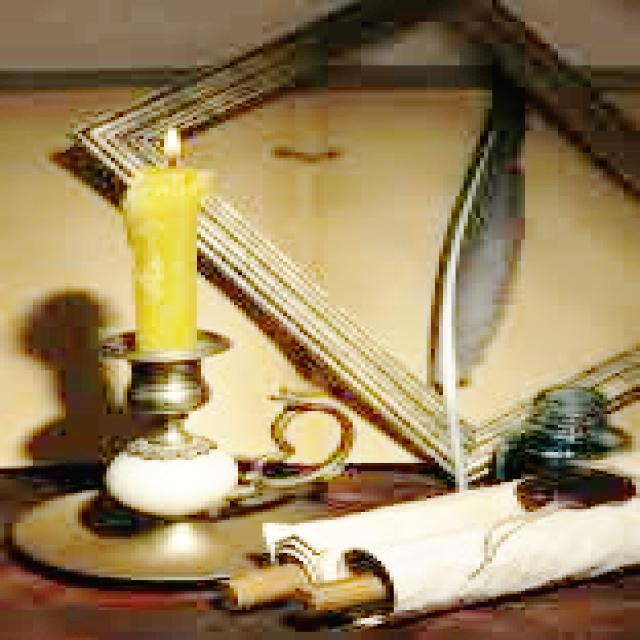api: (141, 118, 190, 170)
